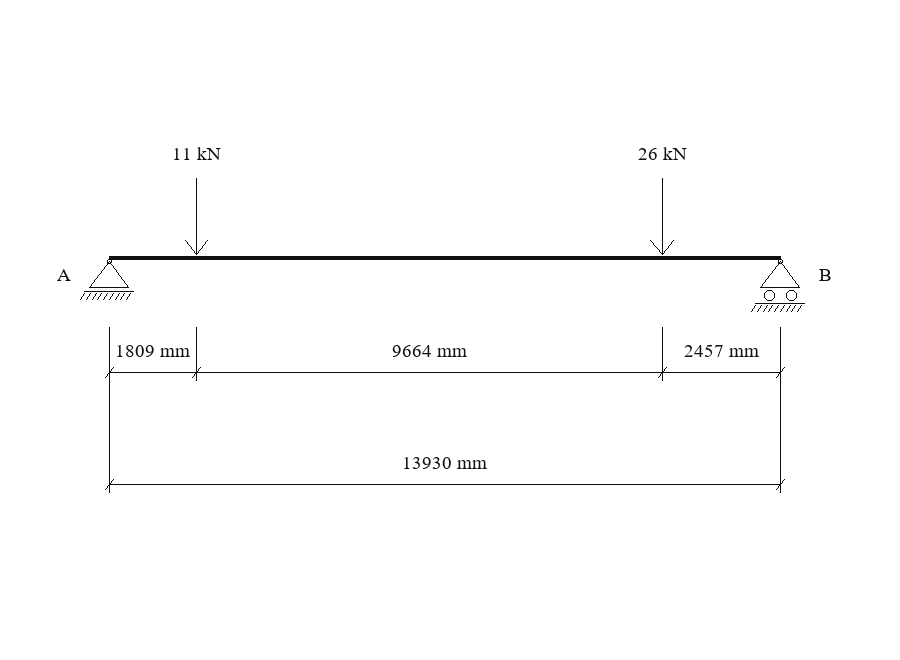pin_support: (80, 259, 134, 300)
point_load: (650, 178, 674, 255), (185, 178, 208, 255)
roller_support: (751, 259, 805, 312)
